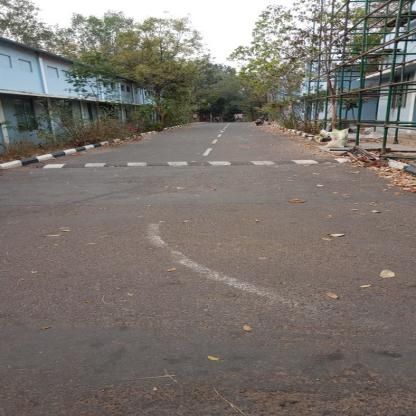speed-bumps: (21, 155, 372, 176)
